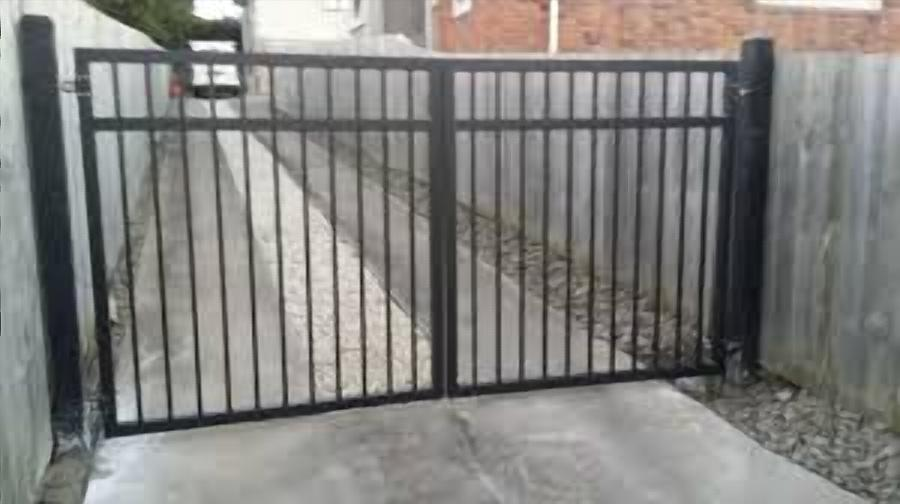Car: (188, 42, 243, 97)
Gate: (73, 44, 744, 440)
